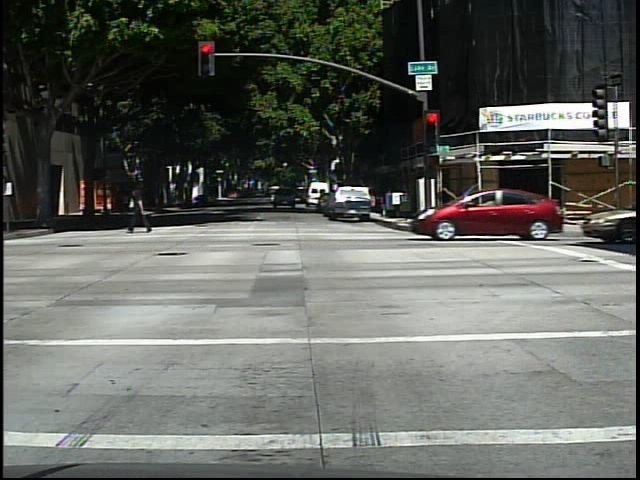person: (124, 183, 158, 235)
